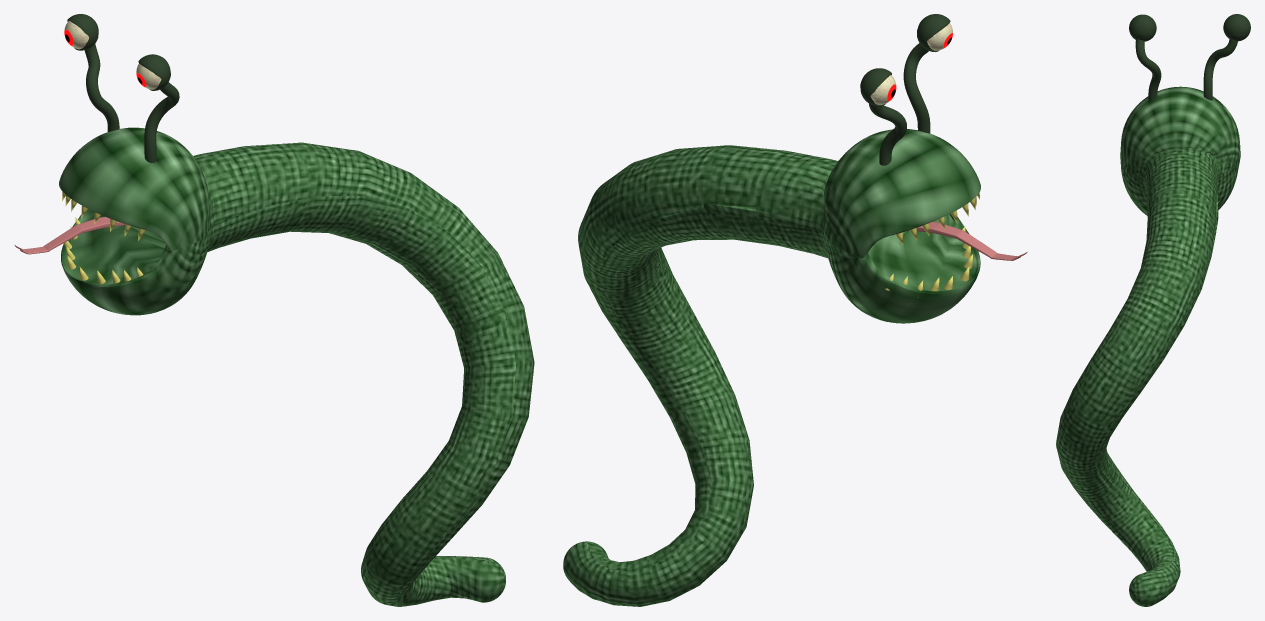
File: toothyjaws.glb
3 renders of one model, left to right at view 1: azimuth 30°, elevation 25°; view 2: azimuth 150°, elevation 25°; view 3: azimuth 270°, elevation 25°, orthographic. The views are drawn at different scales.
Visible parts, largest first — view 1: toothyjawsmesh; view 2: toothyjawsmesh; view 3: toothyjawsmesh.
Part boxes in pixels (x1,y1,x2,y2): toothyjawsmesh: (14, 14, 534, 606); toothyjawsmesh: (563, 14, 1027, 606); toothyjawsmesh: (1056, 14, 1250, 606).
Size of the model in its own units: 0.5649 by 0.7313 by 0.2757.
2 materials, 2 textured.
